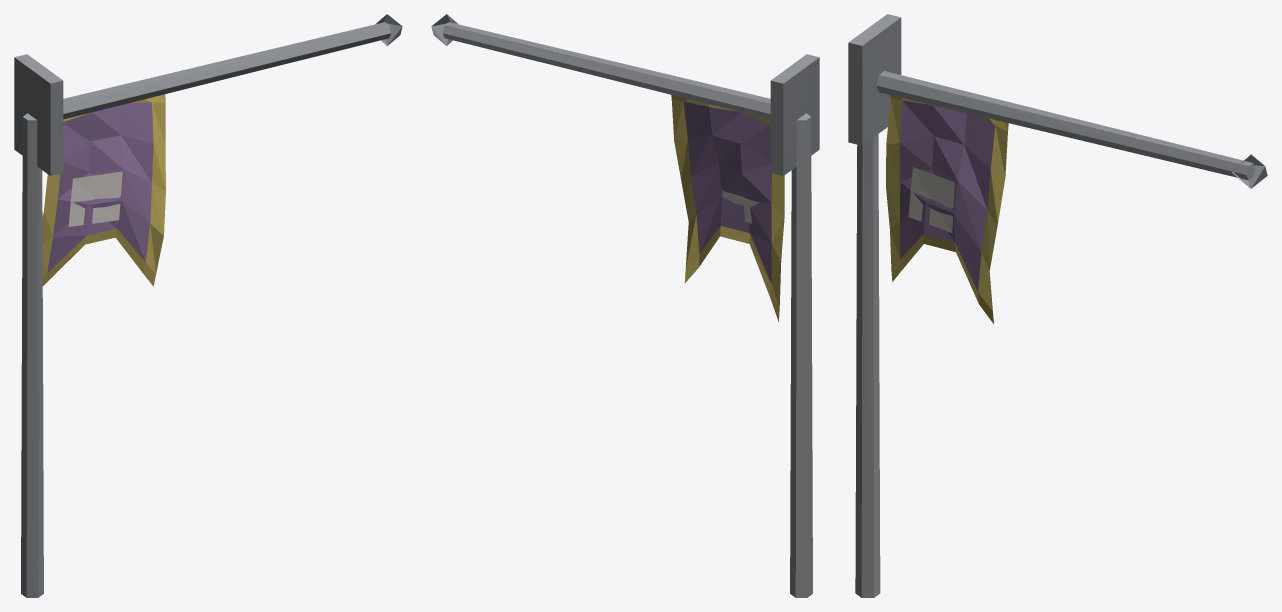
Rendered from flag.gonfalon.zifan__pole.horizontal.big__armHang.glb.
3 renders of one model, left to right at view 1: azimuth 30°, elevation 25°; view 2: azimuth 150°, elevation 25°; view 3: azimuth 330°, elevation 25°, orthographic. The views are drawn at different scales.
Parts seen in each view (by area): view 1: flag.gonfalon.zifan; view 2: flag.gonfalon.zifan; view 3: flag.gonfalon.zifan.
Boxes of the visible parts, left/top/right/bottom form: flag.gonfalon.zifan: left=14, top=14, right=402, bottom=597; flag.gonfalon.zifan: left=431, top=14, right=819, bottom=597; flag.gonfalon.zifan: left=848, top=14, right=1267, bottom=597.
Size of the model in its own units: 2.66 by 3.51 by 0.44.
